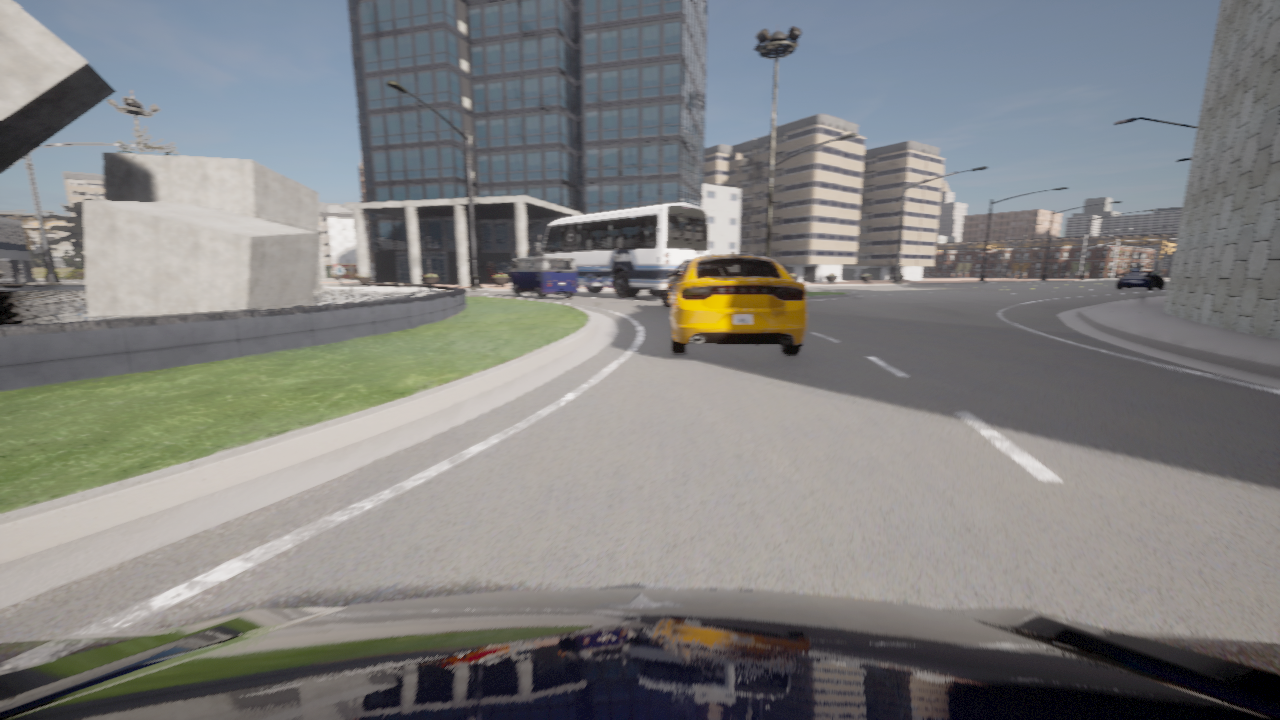cyclist: (0, 584, 1279, 719), (536, 203, 709, 298), (669, 252, 806, 355), (509, 256, 577, 299), (660, 260, 691, 307), (1116, 271, 1164, 289)
pedestrian: (335, 264, 343, 283)
